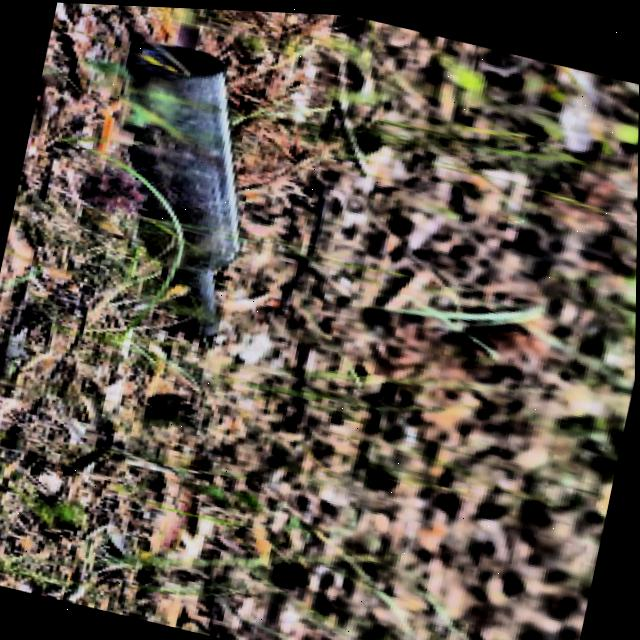glass: (119, 36, 242, 338)
